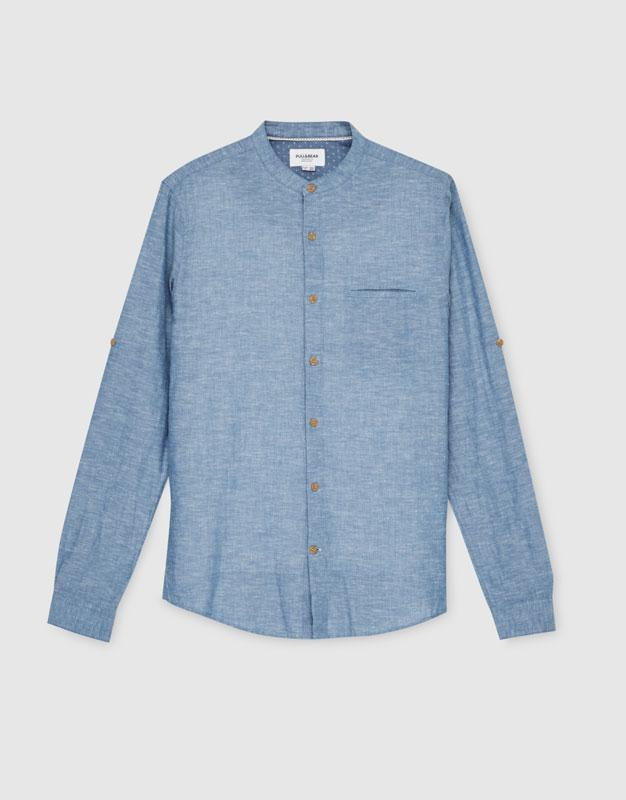teeshirt: (35, 118, 563, 674)
